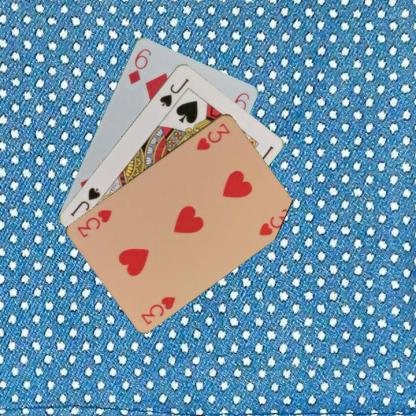3h: (138, 293, 177, 326), (194, 120, 232, 152)
6d: (126, 45, 152, 86)
Js: (156, 75, 191, 108)
